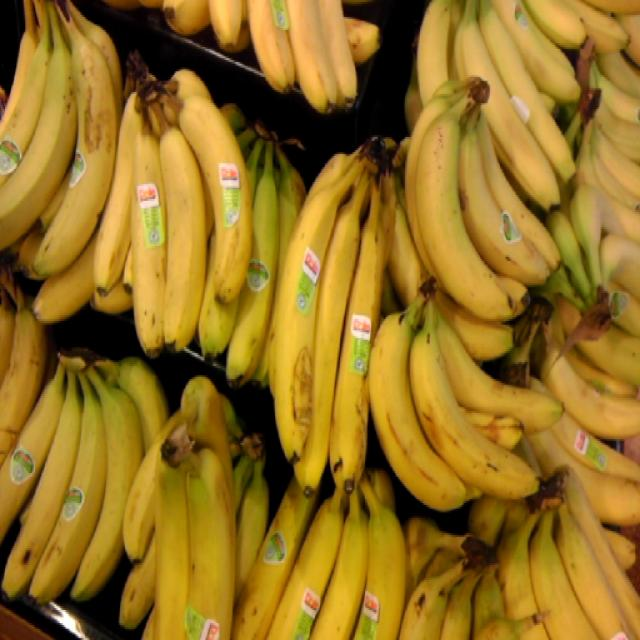banana: (366, 264, 569, 534), (267, 129, 406, 505), (101, 53, 259, 368), (0, 343, 166, 640), (406, 60, 567, 315), (0, 0, 120, 331), (118, 379, 248, 640)
